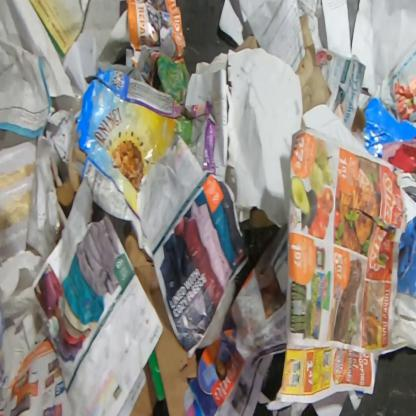cardboard: (53, 66, 217, 260), (120, 228, 198, 415), (363, 97, 415, 159), (114, 361, 170, 415), (351, 106, 366, 136)
rigid_plastic: (48, 84, 84, 118)
